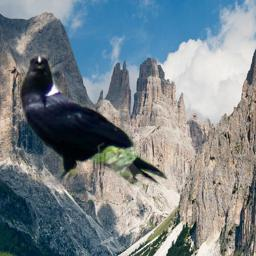Crow: (18, 53, 170, 190)
